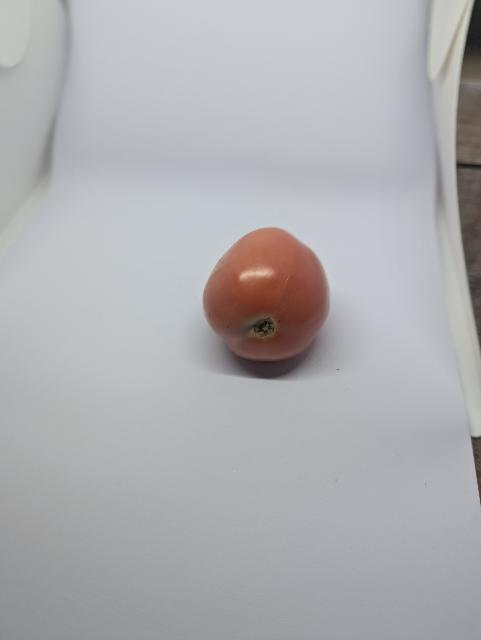red: (187, 212, 355, 384)
